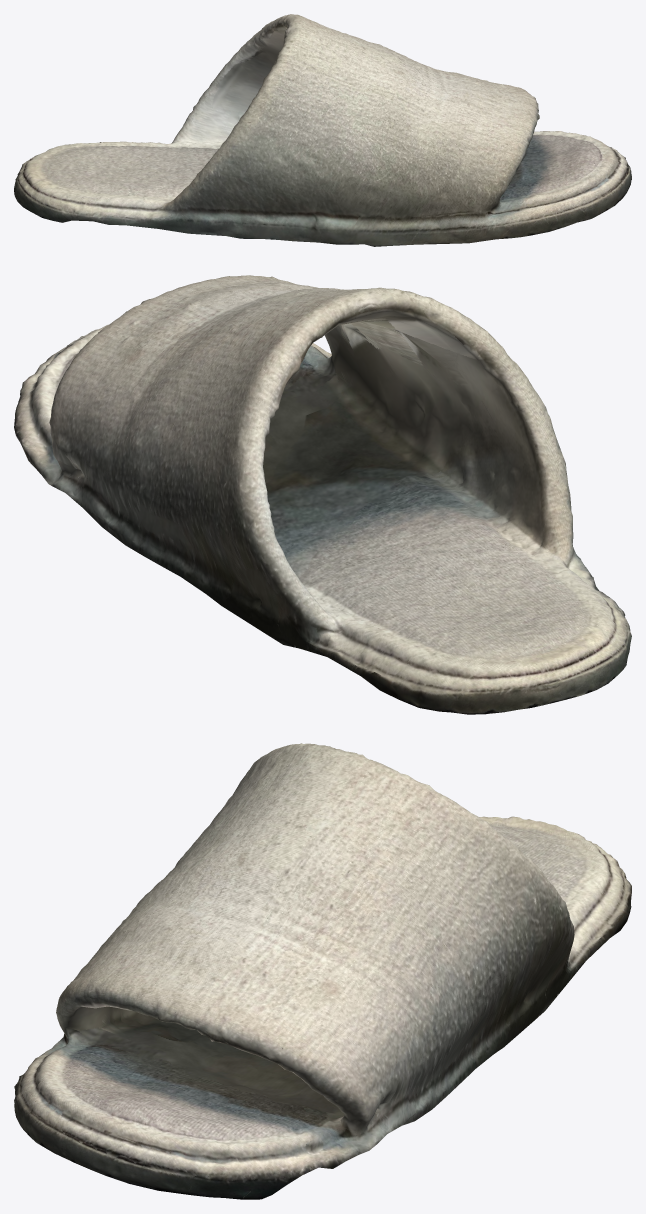
Rendered from slipper.glb.
The picture shows the model from 3 angles, top to bottom: view 1: azimuth 30°, elevation 25°; view 2: azimuth 150°, elevation 25°; view 3: azimuth 270°, elevation 25°; orthographic projection. The views are drawn at different scales.
Parts seen in each view (by area): view 1: g0; view 2: g0; view 3: g0.
Boxes of the visible parts, box(x1,y1,x2,y2) form: g0: box(14, 14, 631, 246); g0: box(14, 275, 631, 714); g0: box(14, 743, 631, 1199).
Size of the model in its own units: 0.2717 by 0.0967 by 0.2001.
Materials: 1 (1 with a texture image).
